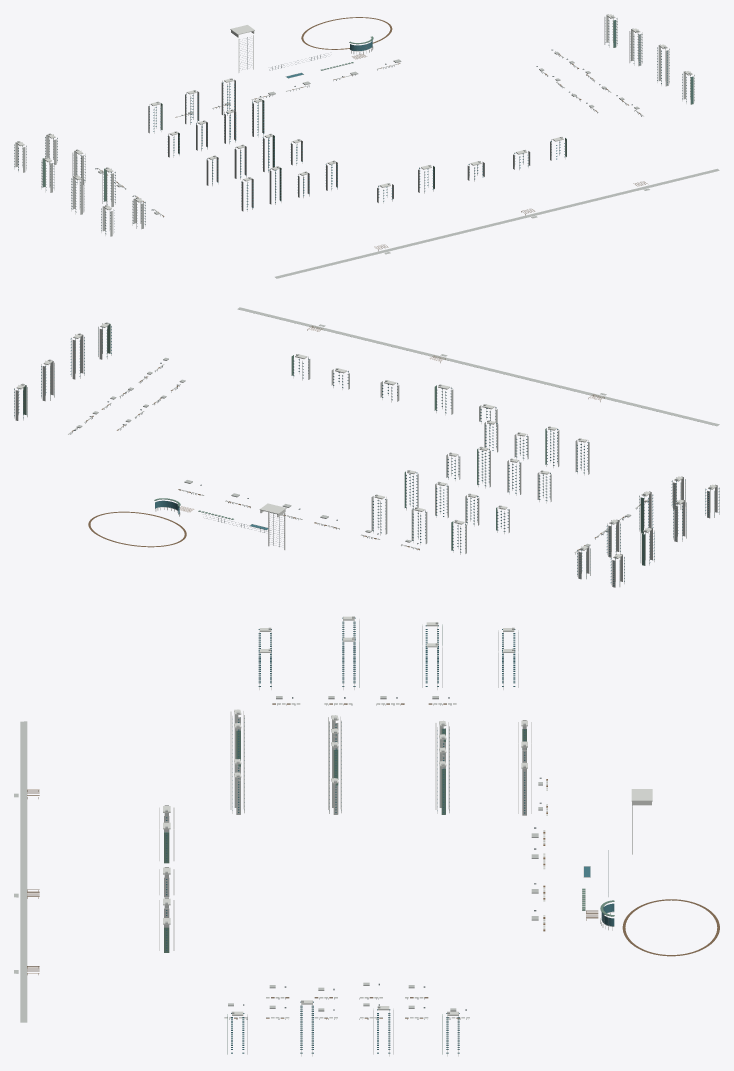
Rendered from namak-architecture.glb.
3 views of the same model, one above another, from view 1: azimuth 30°, elevation 25°; view 2: azimuth 150°, elevation 25°; view 3: azimuth 270°, elevation 25° (orthographic). The views are drawn at different scales.
Parts seen in each view (by area): view 1: Namak_Arch_housing_Stone, Namak_Arch_housing_Ivory, Namak_Arch_river_Stone, Namak_Arch_west_Stone, Namak_Arch_west_Ivory, Namak_Arch_housing_Glass, Namak_Arch_east_Stone, Namak_Arch_east_Ivory, Namak_Arch_housing_Roof; view 2: Namak_Arch_housing_Ivory, Namak_Arch_housing_Stone, Namak_Arch_river_Stone, Namak_Arch_west_Stone, Namak_Arch_housing_Glass, Namak_Arch_west_Ivory, Namak_Arch_east_Stone, Namak_Arch_east_Ivory, Namak_Arch_west_Glass; view 3: Namak_Arch_housing_Ivory, Namak_Arch_river_Stone, Namak_Arch_housing_Stone, Namak_Arch_west_Glass, Namak_Arch_housing_Roof, Namak_Arch_west_Ivory, Namak_Arch_east_Glass.
Part boxes in pixels (x1,y1,x2,y2): Namak_Arch_housing_Stone: (148, 59, 562, 211); Namak_Arch_housing_Ivory: (149, 64, 565, 211); Namak_Arch_river_Stone: (275, 168, 719, 278); Namak_Arch_west_Stone: (15, 133, 162, 236); Namak_Arch_west_Ivory: (14, 134, 162, 235); Namak_Arch_housing_Glass: (149, 82, 565, 209); Namak_Arch_east_Stone: (539, 14, 691, 115); Namak_Arch_east_Ivory: (541, 14, 694, 116); Namak_Arch_housing_Roof: (160, 100, 566, 200); Namak_Arch_housing_Ivory: (181, 354, 588, 554); Namak_Arch_housing_Stone: (179, 354, 589, 553); Namak_Arch_river_Stone: (237, 307, 719, 426); Namak_Arch_west_Stone: (575, 476, 717, 587); Namak_Arch_housing_Glass: (293, 358, 588, 552); Namak_Arch_west_Ivory: (574, 476, 719, 586); Namak_Arch_east_Stone: (15, 322, 185, 433); Namak_Arch_east_Ivory: (14, 323, 180, 434); Namak_Arch_west_Glass: (577, 480, 719, 585); Namak_Arch_housing_Ivory: (159, 709, 547, 950); Namak_Arch_river_Stone: (14, 721, 27, 1022); Namak_Arch_housing_Stone: (164, 711, 542, 927); Namak_Arch_west_Glass: (258, 617, 515, 686); Namak_Arch_housing_Roof: (164, 728, 526, 952); Namak_Arch_west_Ivory: (259, 616, 514, 704); Namak_Arch_east_Glass: (231, 1001, 459, 1053).
Size of the model in its own units: 1339 by 87.63 by 1016.
